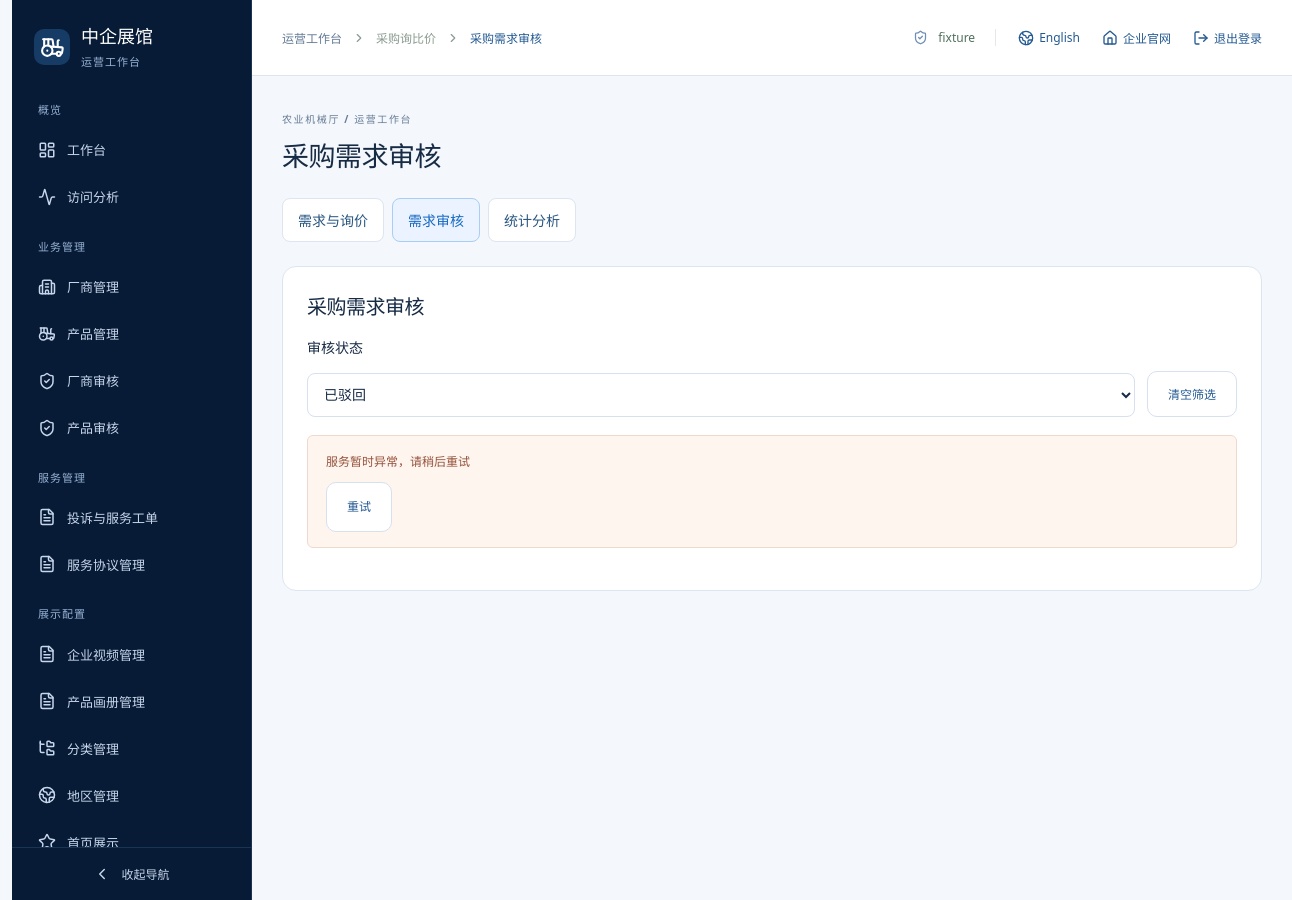
Test case: shows a genuine failure and retries the same filter without stale results
The image size is (1292, 900).
Step 1. Click the button "重试" → (359, 507), box [326, 482, 392, 532]
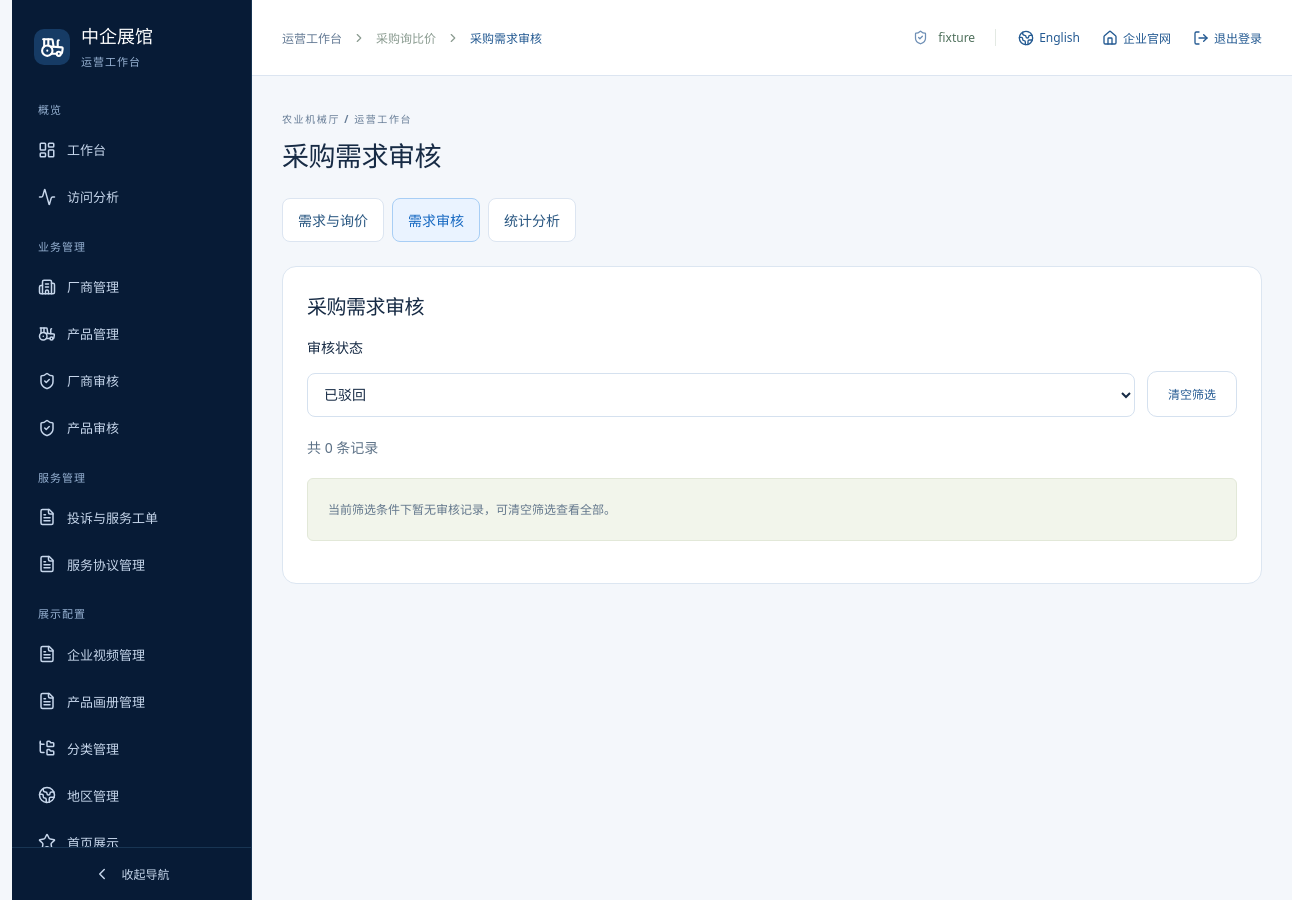
Result: the text "当前筛选条件下暂无审核记录，可清空筛选查看全部。" is shown at [307, 478, 1237, 541]
